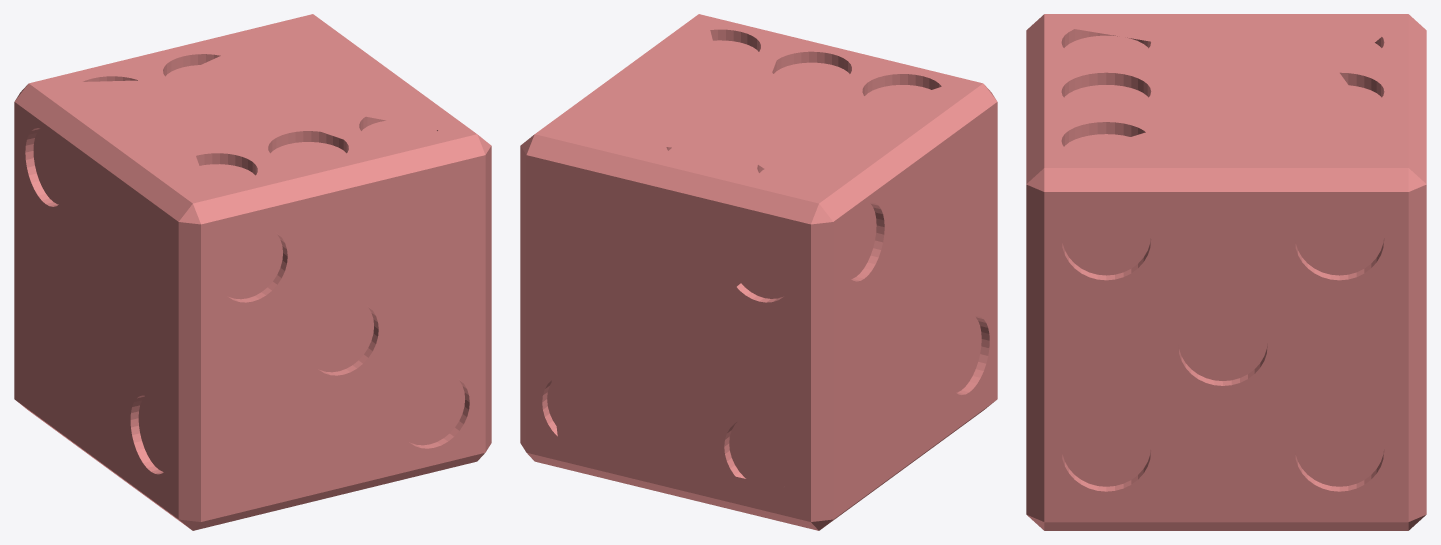
The model's file is lowpolyisland_dice 1.fbx.
The picture shows the model from 3 angles, left to right: view 1: azimuth 30°, elevation 25°; view 2: azimuth 150°, elevation 25°; view 3: azimuth 270°, elevation 25°; orthographic projection. The views are drawn at different scales.
Visible parts, largest first — view 1: außen.001; view 2: außen.001; view 3: außen.001.
Part boxes in pixels (bbox=[...]): außen.001: bbox=[14, 14, 491, 530]; außen.001: bbox=[520, 14, 997, 530]; außen.001: bbox=[1026, 14, 1426, 530].
Bounding box in the file's own units: 716 × 716 × 716.
